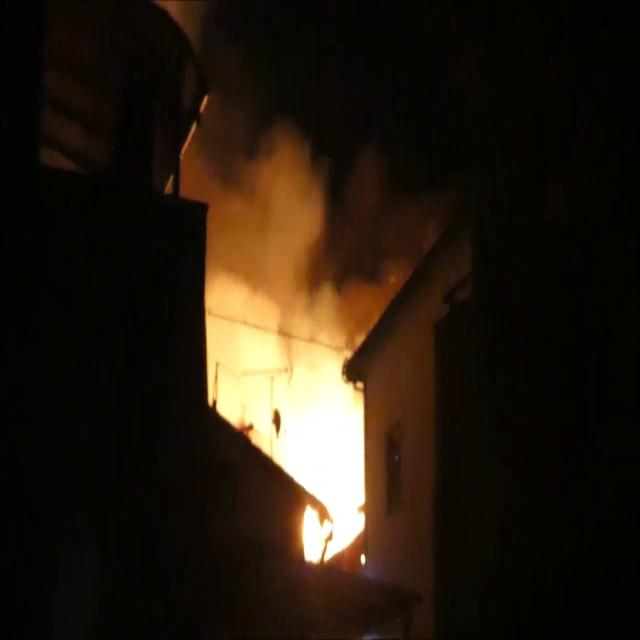Fire: (273, 326, 372, 566)
